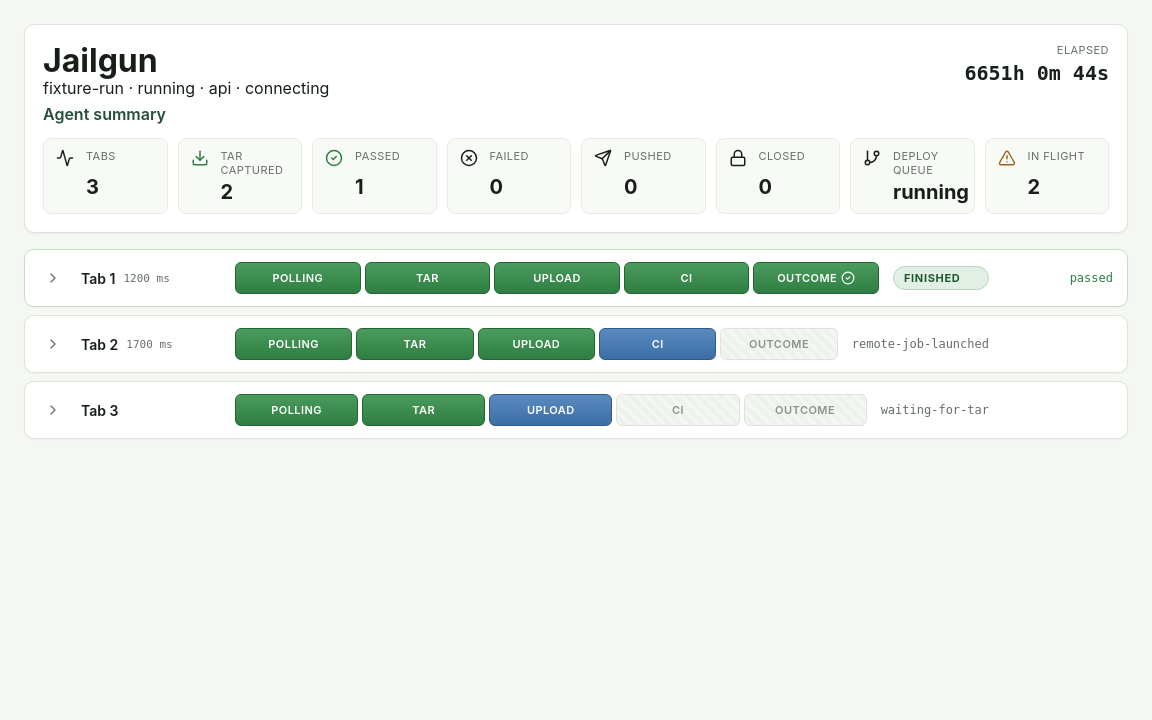
applies WebSocket event updates to the active run
// Expand the affected tab drilldown so the message becomes visible.
Click the button named "expand tab 1" at coordinates (53, 278), box [39, 266, 67, 290]
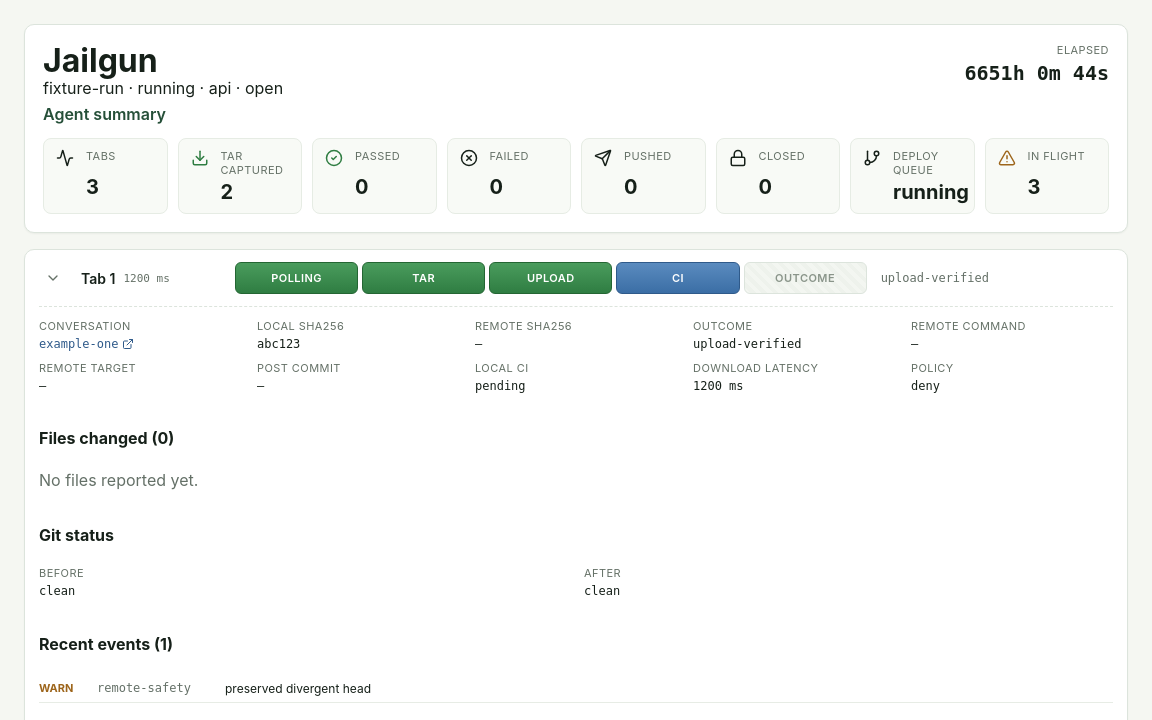
Now the text "preserved divergent head" is shown, box [225, 681, 371, 696]
